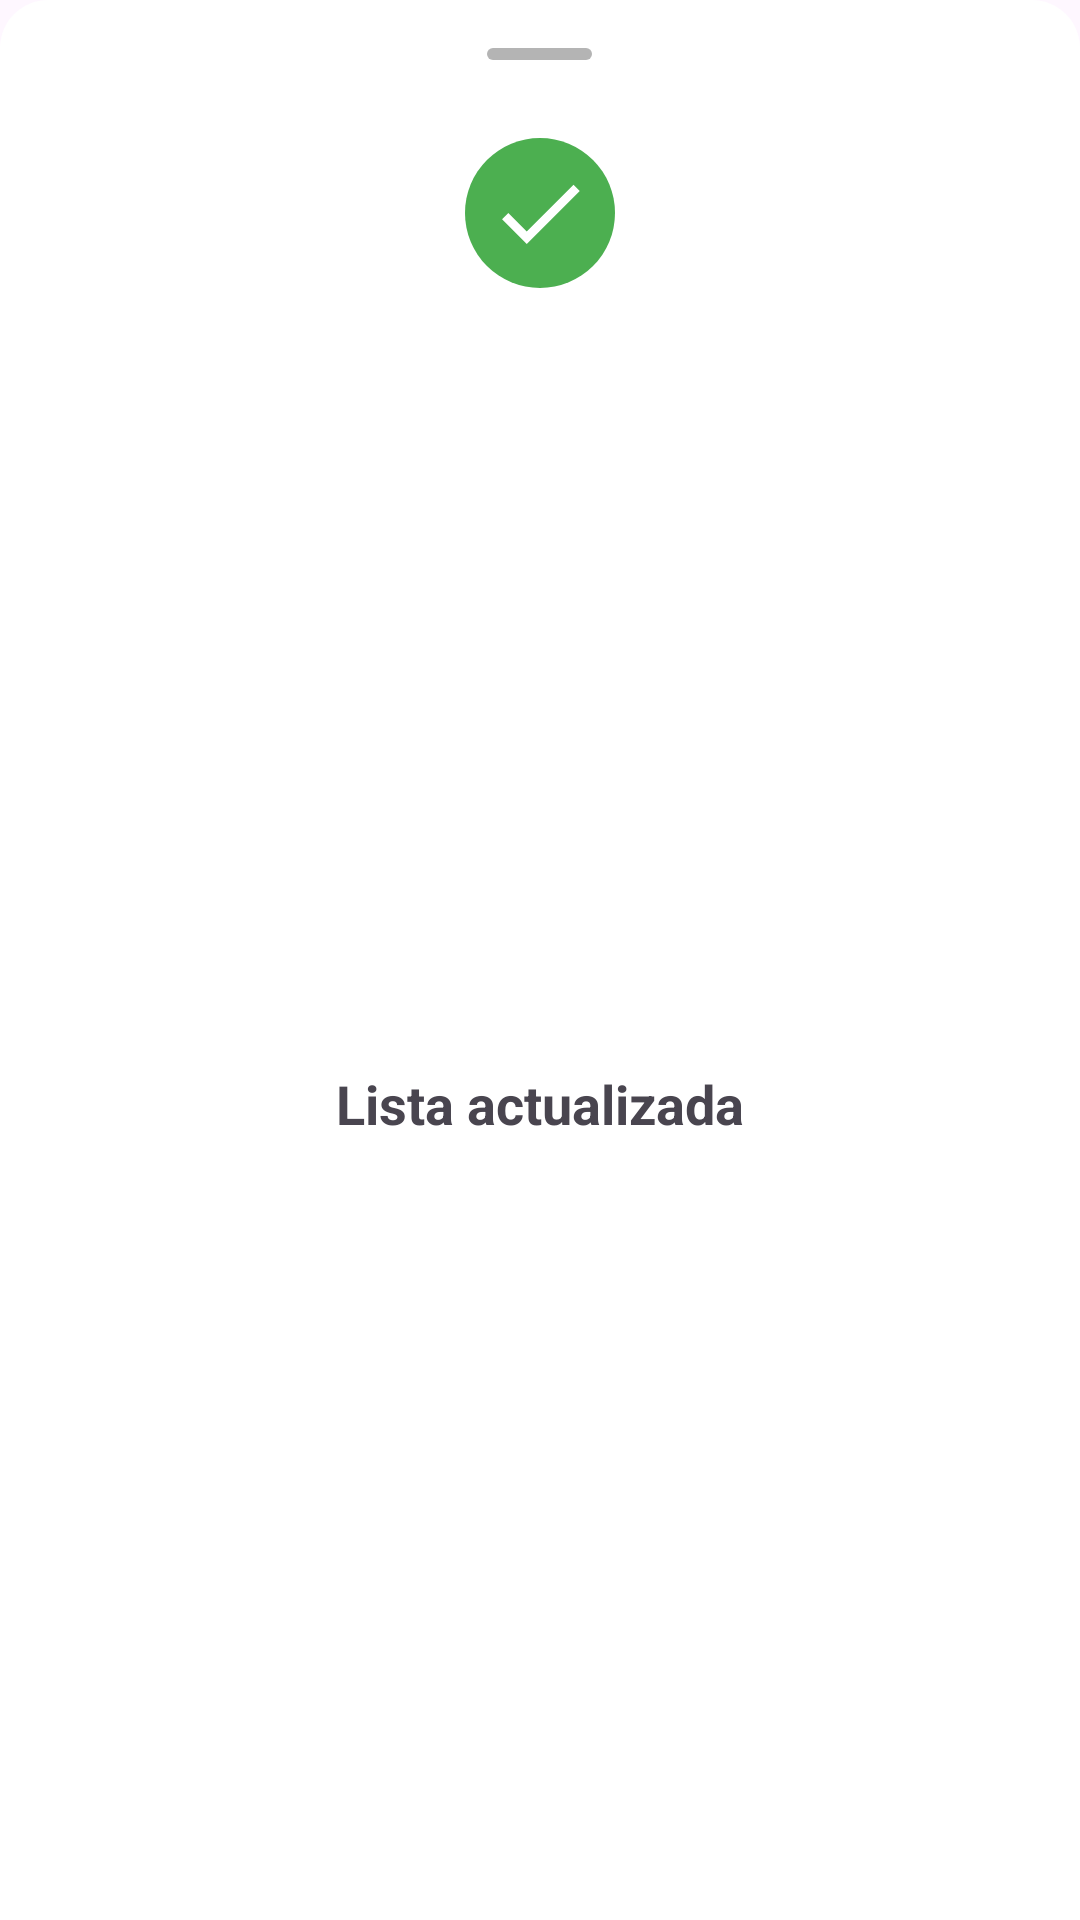

Point at icon controls on the screen. Image size 1080*1920, points as [x,y].
ok round: [540,213]
